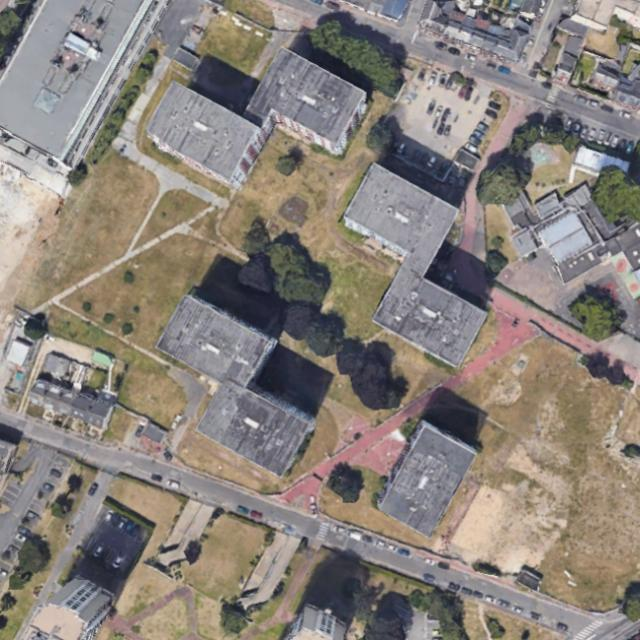immeuble: (140, 80, 271, 191), (247, 46, 374, 158), (194, 369, 316, 479), (339, 163, 461, 273), (371, 266, 489, 369), (373, 419, 476, 535), (157, 295, 273, 397)
